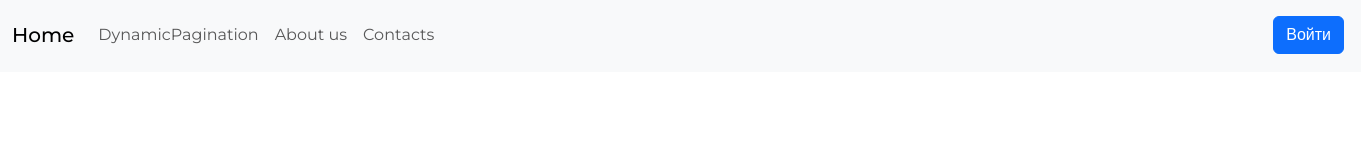
Scenario: Navbar › переключает состояние аутентификации при нажатии кнопки входа
Click the button "Войти": (1309, 35) x1=1273 y1=16 x2=1344 y2=54
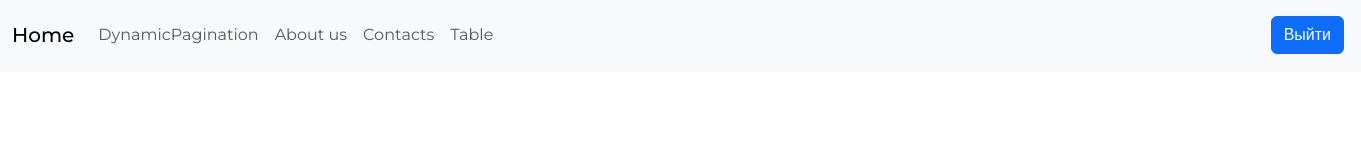
expect the button named "войти" reads "Выйти": met
Click the button named "войти": (1307, 35) x1=1271 y1=16 x2=1344 y2=54
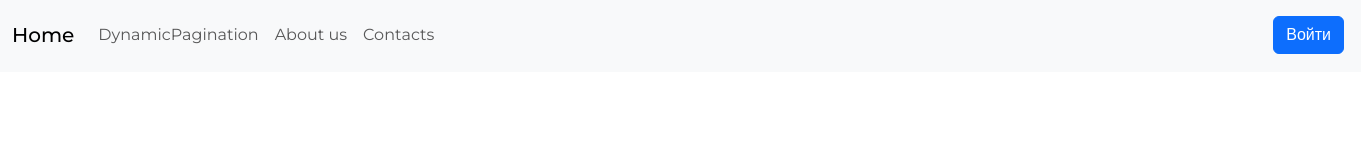
expect the button "Войти" is shown: met, box x1=1273 y1=16 x2=1344 y2=54
